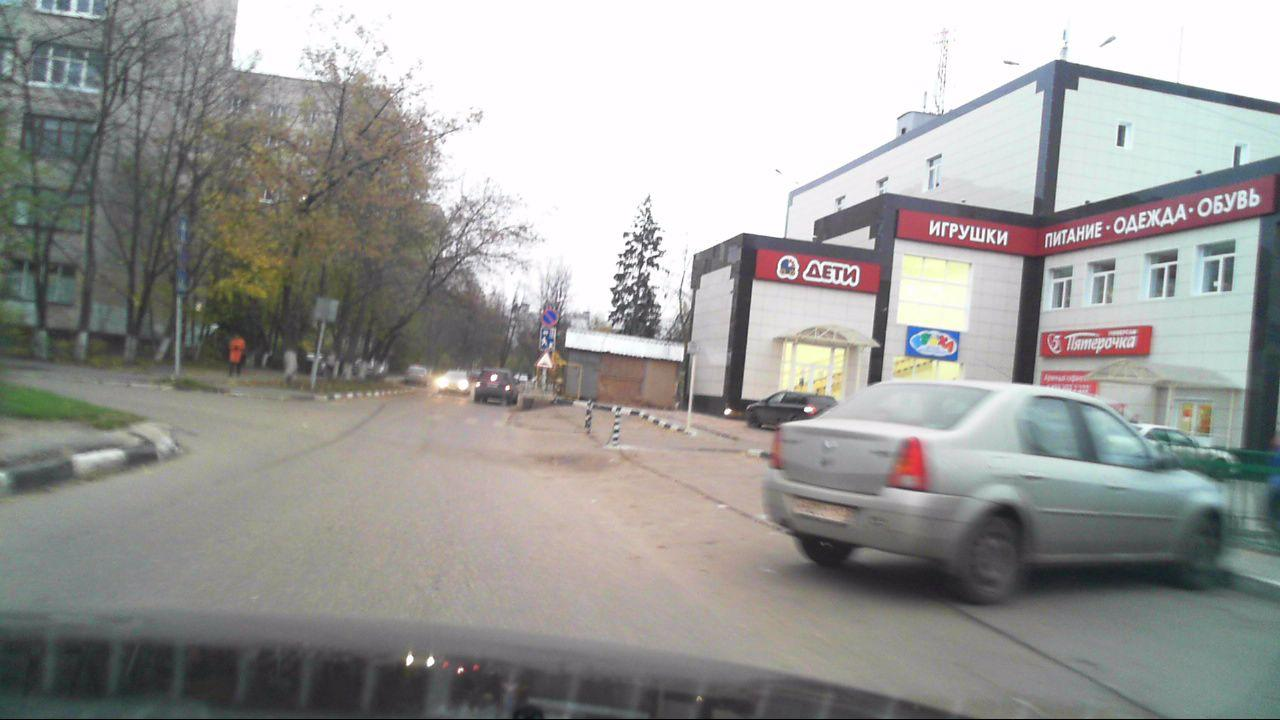1_17: (536, 352, 553, 369)
3_28: (541, 307, 559, 326), (175, 245, 189, 267)
5_19_1: (175, 272, 187, 295)
5_21: (539, 327, 555, 351)
5_5: (178, 218, 187, 240)
